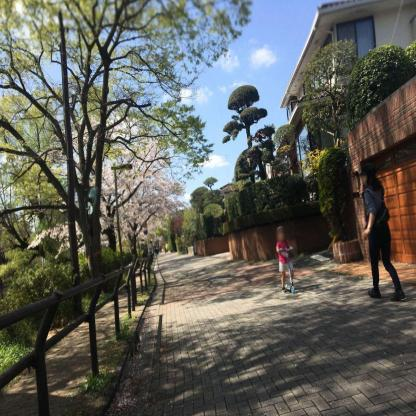Someiyoshino: (8, 98, 188, 259)
